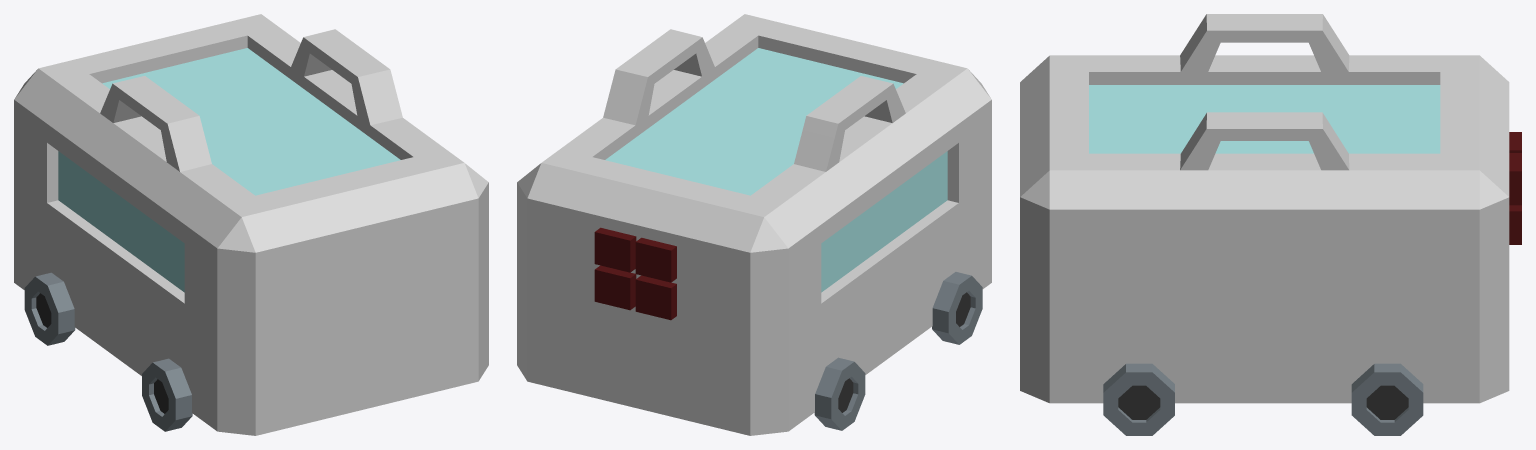
The model's file is rover_lab.fbx.
3 renders of one model, left to right at view 1: azimuth 30°, elevation 25°; view 2: azimuth 150°, elevation 25°; view 3: azimuth 270°, elevation 25°, orthographic. The views are drawn at different scales.
Parts seen in each view (by area): view 1: rover_lab; view 2: rover_lab; view 3: rover_lab.
Part boxes in pixels (x1,y1,x2,y2): rover_lab: (14, 14, 488, 435); rover_lab: (517, 14, 991, 435); rover_lab: (1020, 14, 1521, 435).
Size of the model in its own units: 2.95 by 3.99 by 2.51.
